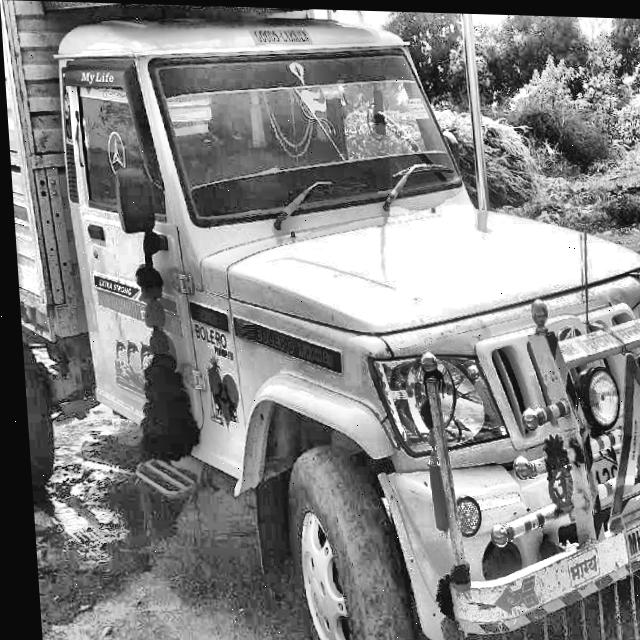light_vehicle: (0, 0, 640, 619)
